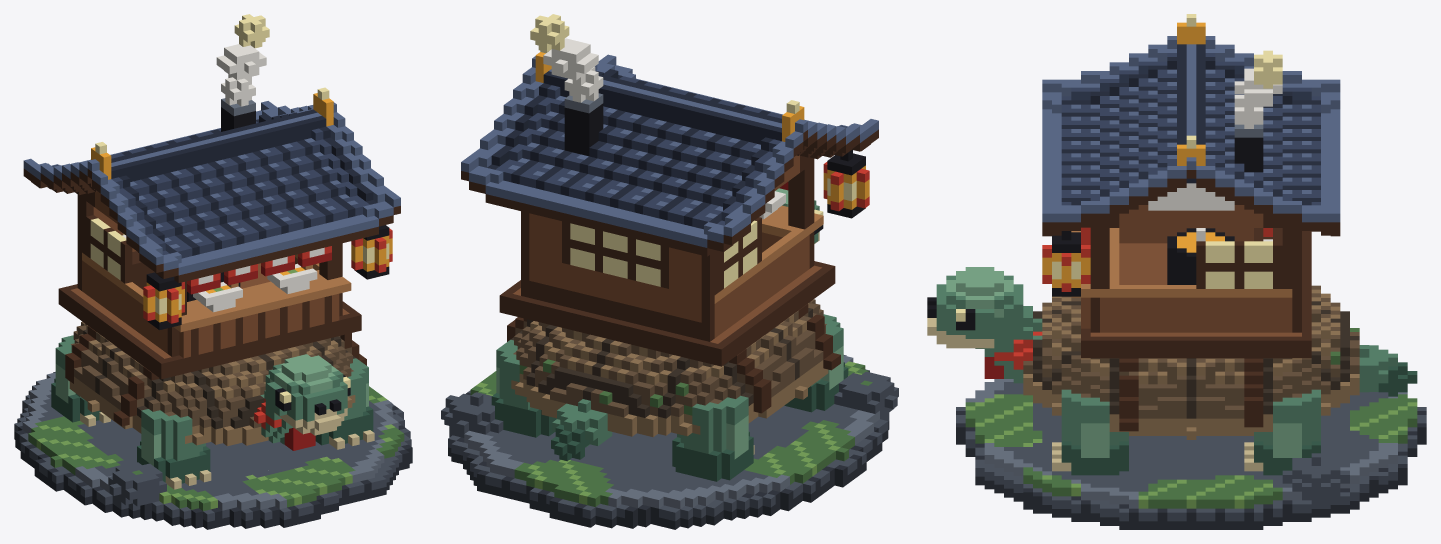
The model's file is kame_yatai_voxel.glb.
3 renders of one model, left to right at view 1: azimuth 30°, elevation 25°; view 2: azimuth 150°, elevation 25°; view 3: azimuth 270°, elevation 25°, orthographic. The views are drawn at different scales.
Parts seen in each view (by area): view 1: TesselAsset; view 2: TesselAsset; view 3: TesselAsset.
Boxes of the visible parts, x1=… form: TesselAsset: x1=14, y1=14, x2=412, y2=529; TesselAsset: x1=441, y1=14, x2=898, y2=529; TesselAsset: x1=927, y1=14, x2=1426, y2=529.
Size of the model in its own units: 4.4 by 4.9 by 5.2.
1 material, 1 textured.
